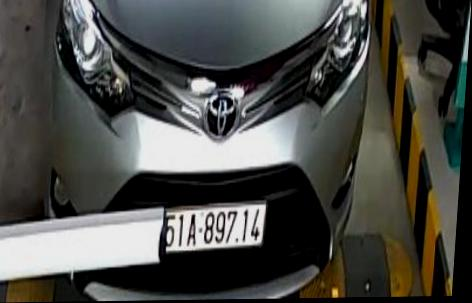License_Plate: (157, 203, 271, 248)
